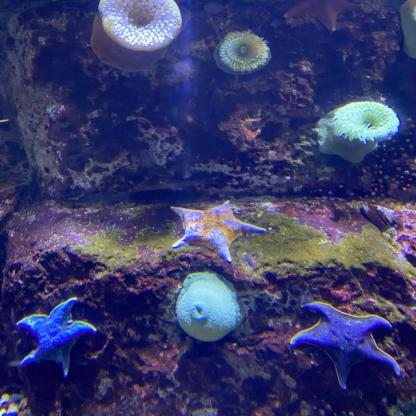starfish: (290, 301, 400, 391), (11, 296, 100, 378), (168, 200, 267, 264)
